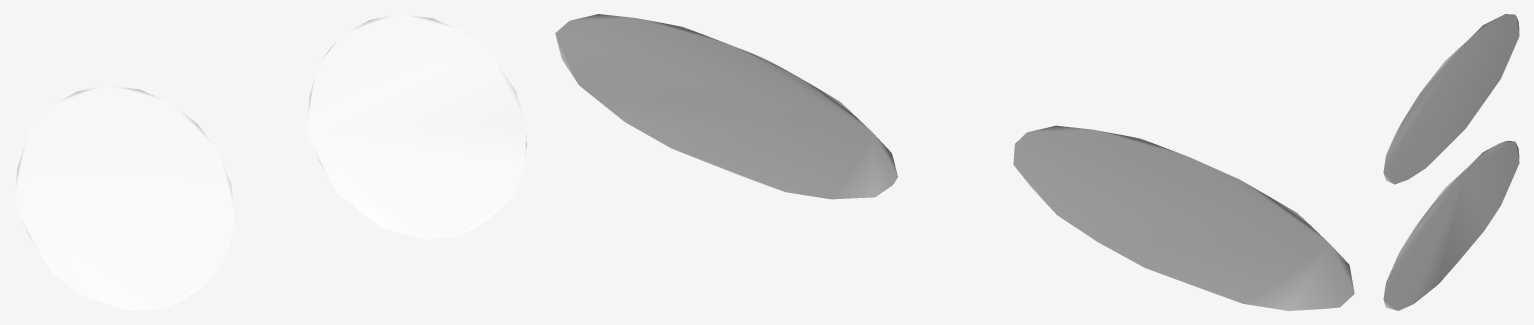
3 renders of one model, left to right at view 1: azimuth 30°, elevation 25°; view 2: azimuth 150°, elevation 25°; view 3: azimuth 270°, elevation 25°, orthographic. The views are drawn at different scales.
Size of the model in its own units: 0.2054 by 0.0648 by 0.0548.
1 material, 1 textured.
